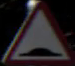Speed Breaker ahead: (7, 5, 63, 58)
